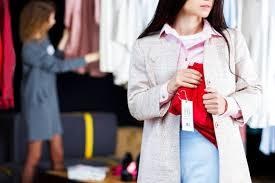shoplifting: (149, 41, 234, 158)
